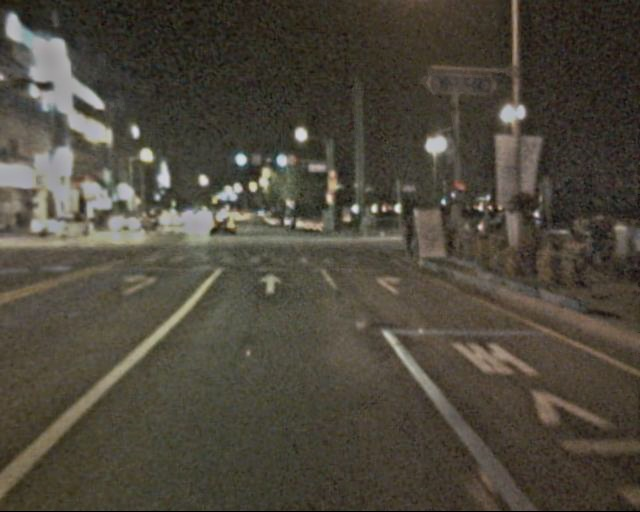person: (583, 216, 607, 274), (563, 218, 586, 274), (398, 217, 418, 265)
